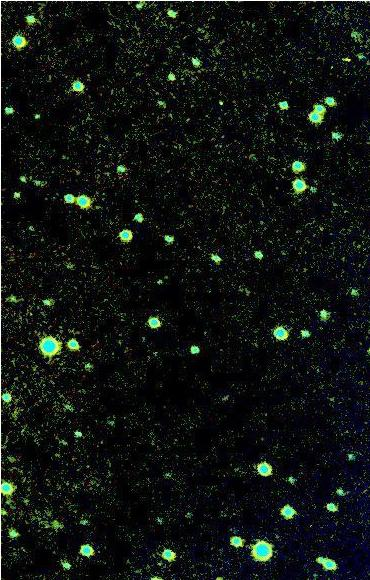star: (206, 86, 236, 116)
